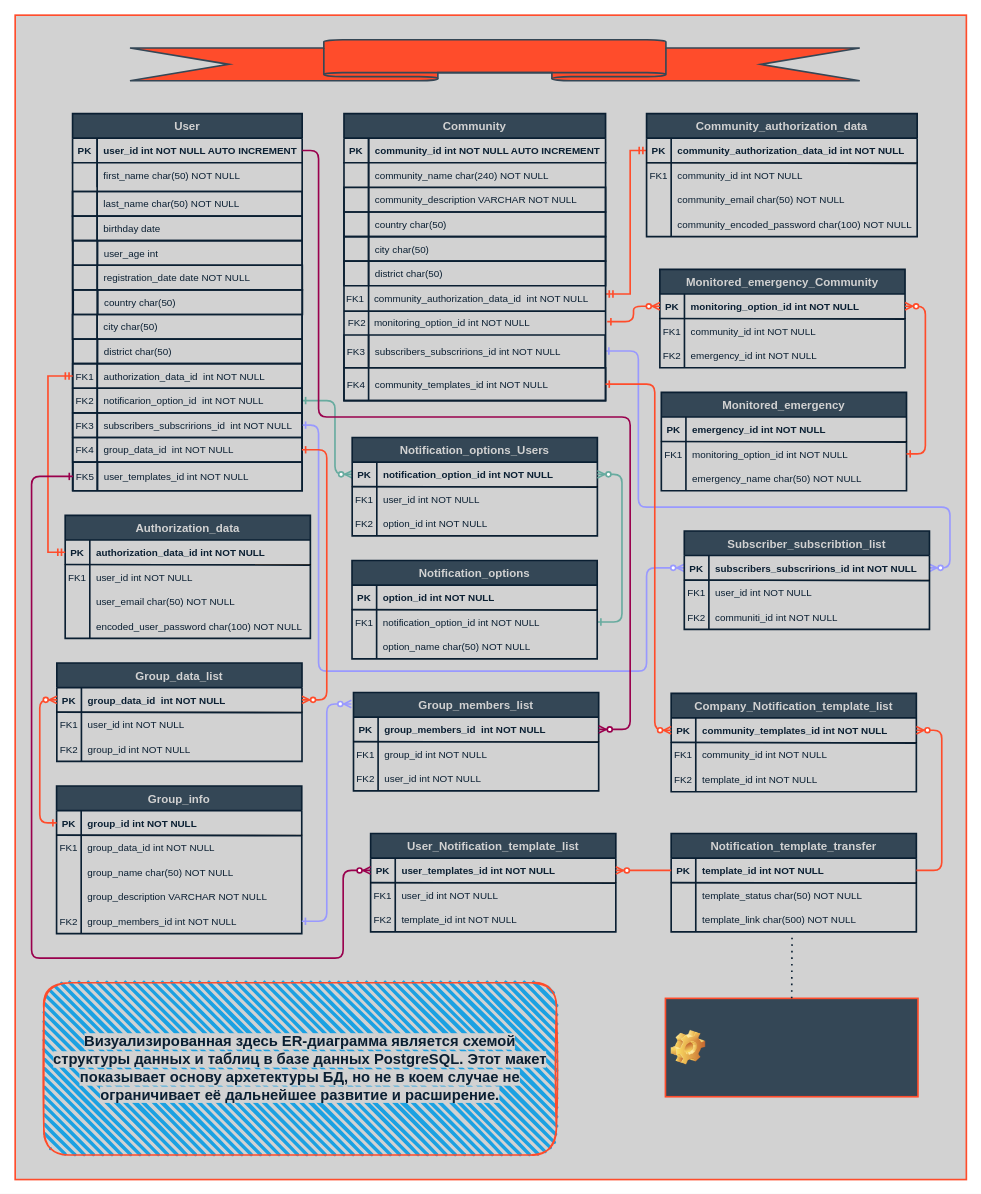
Image size: 981x1194. Some labels were removed from this diagram. The centre of each missing label's shape, as x and y in pixels:
ER-диаграмма для приложения NEAR: the point at 494,60
Содержит ссылку на шаблон, записанный в MongoDB: the point at 791,1047
